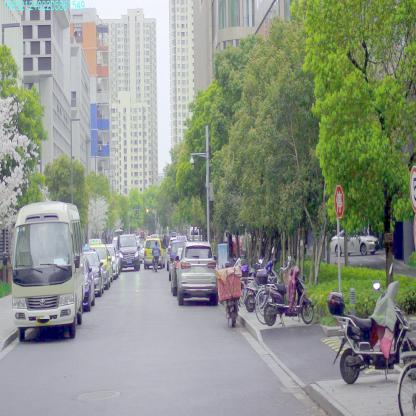traffic-light: (146, 206, 149, 214)
